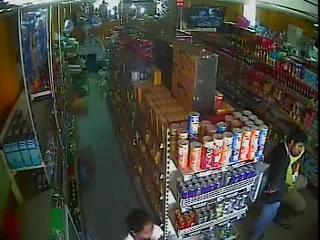Normal: (122, 208, 160, 240)
